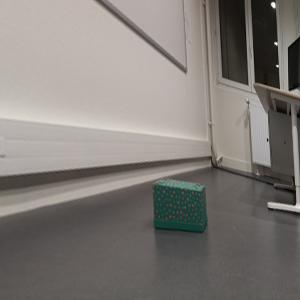small: (148, 174, 212, 238)
